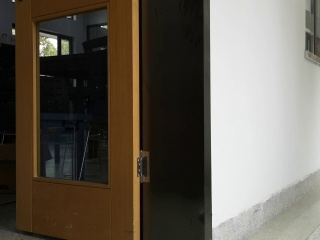room: (3, 3, 215, 240)
